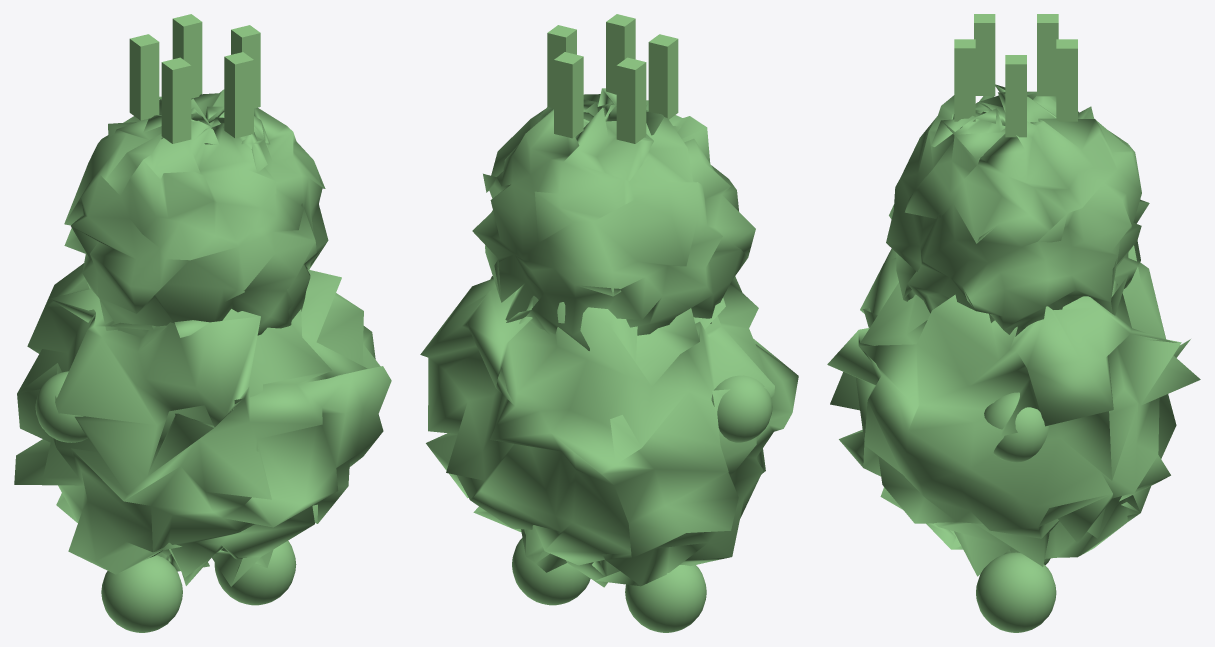
Rendered from clay_grass_blocky.glb.
The picture shows the model from 3 angles, left to right: view 1: azimuth 30°, elevation 25°; view 2: azimuth 150°, elevation 25°; view 3: azimuth 270°, elevation 25°; orthographic projection.
Parts seen in each view (by area): view 1: tuft.004; view 2: tuft.004; view 3: tuft.004.
Boxes of the visible parts, x1,y1,x2,y2 form: tuft.004: (14,14,391,632); tuft.004: (420,14,798,632); tuft.004: (827,14,1200,632).
Bounding box in the file's own units: 1.38 × 2.32 × 1.39.
